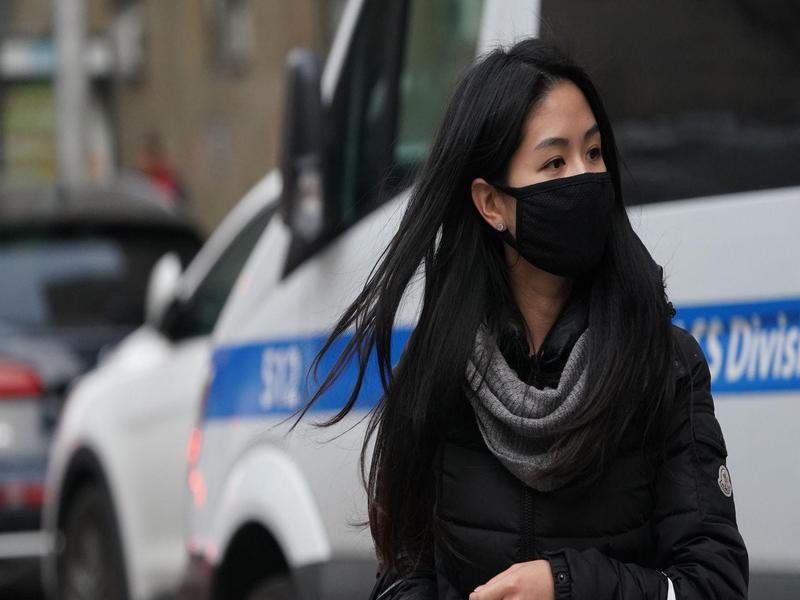with_mask: (438, 41, 624, 280)
